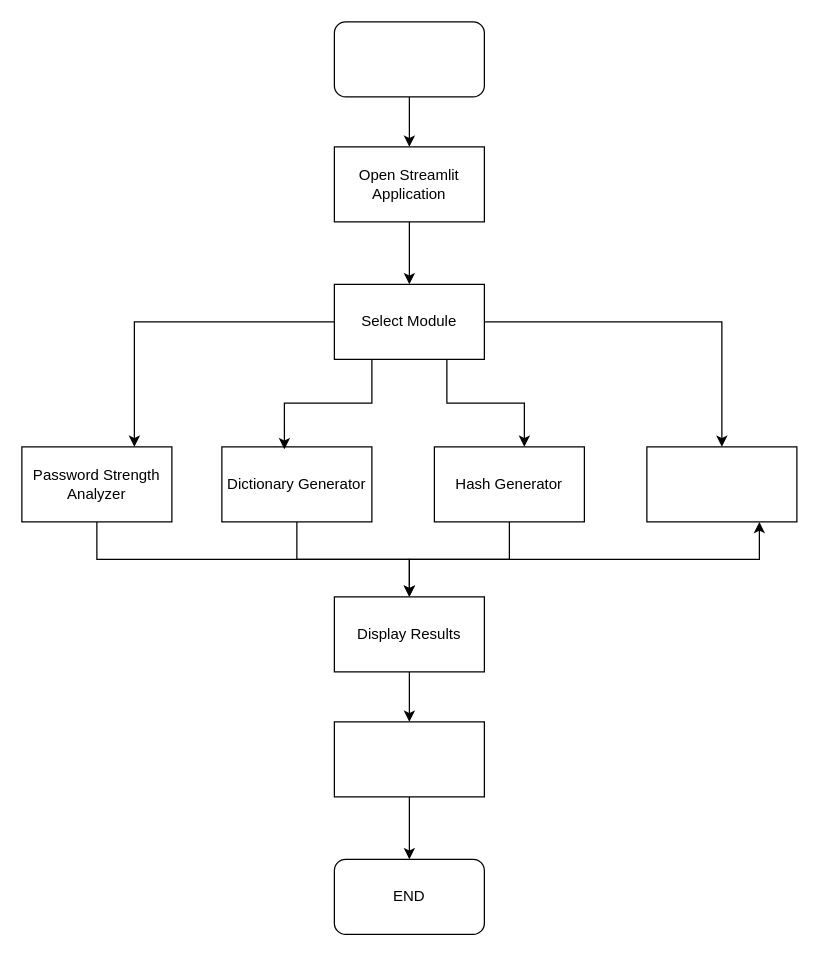
The diagram is 819 pixels wide and 956 high, and some of its shapes have lost their labels. Here are the shapes that lost their labels. From the top down, the box of each, then its label:
(333, 21, 484, 97): START
(646, 446, 797, 522): Offline Attack Simulator
(333, 721, 484, 797): Generate Security Audit Report
